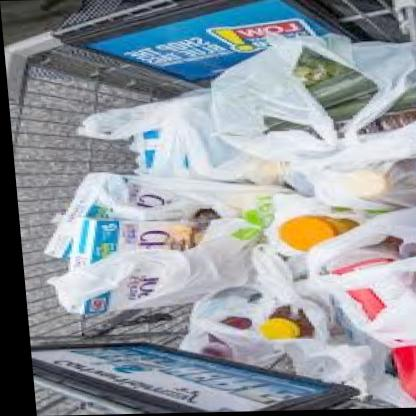Plastic: (25, 41, 416, 394)
